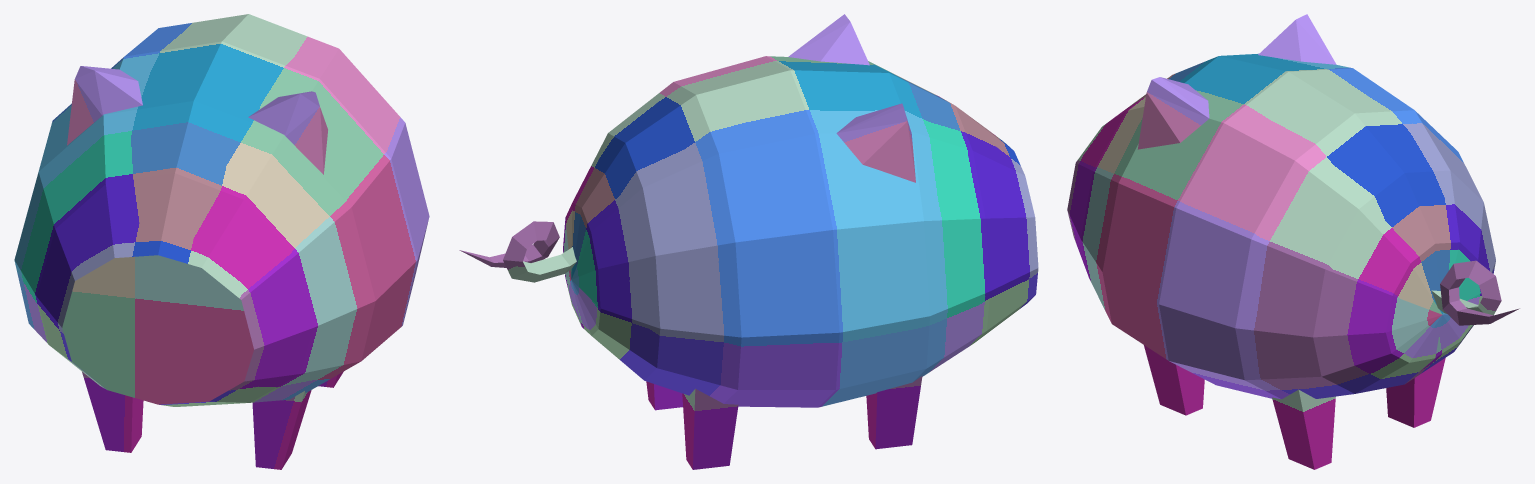
The model's file is rmk_oth_pigbank_jwl.dae.
The picture shows the model from 3 angles, left to right: view 1: azimuth 30°, elevation 25°; view 2: azimuth 150°, elevation 25°; view 3: azimuth 270°, elevation 25°; orthographic projection. The views are drawn at different scales.
Visible parts, largest first — view 1: rmk_oth_pigbank_jwl; view 2: rmk_oth_pigbank_jwl; view 3: rmk_oth_pigbank_jwl.
Boxes of the visible parts, box(x1,y1,x2,y2) form: rmk_oth_pigbank_jwl: box(14, 14, 429, 469); rmk_oth_pigbank_jwl: box(459, 14, 1038, 469); rmk_oth_pigbank_jwl: box(1067, 14, 1519, 469).
Size of the model in its own units: 20.44 by 16.72 by 20.34.
1 material, 1 textured.
